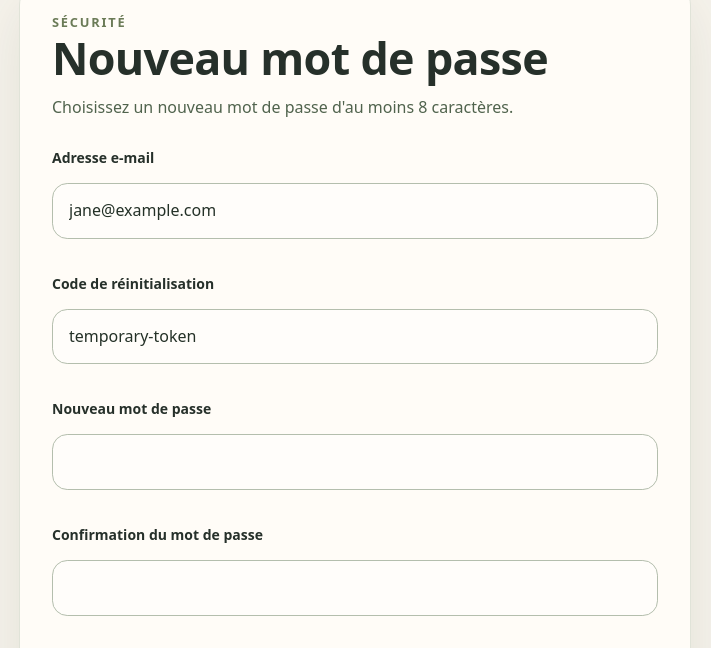
it: ResetPasswordView › renders an invalid or expired token error
Type "new-password123" into the password field labelled "Nouveau mot de passe" at (355, 462), box [52,434,658,490]
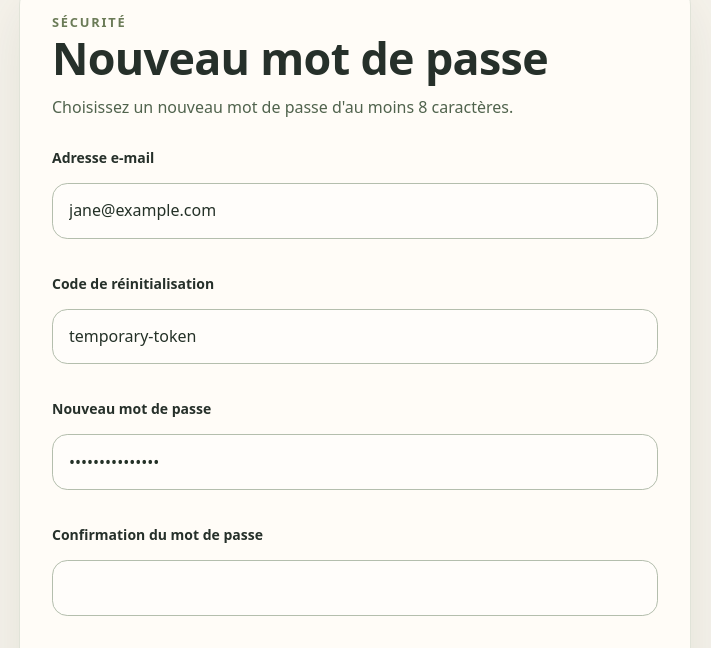
Type "new-password123" into the password field labelled "Confirmation du mot de passe" at (355, 588), box [52,560,658,616]
(page scrolled)
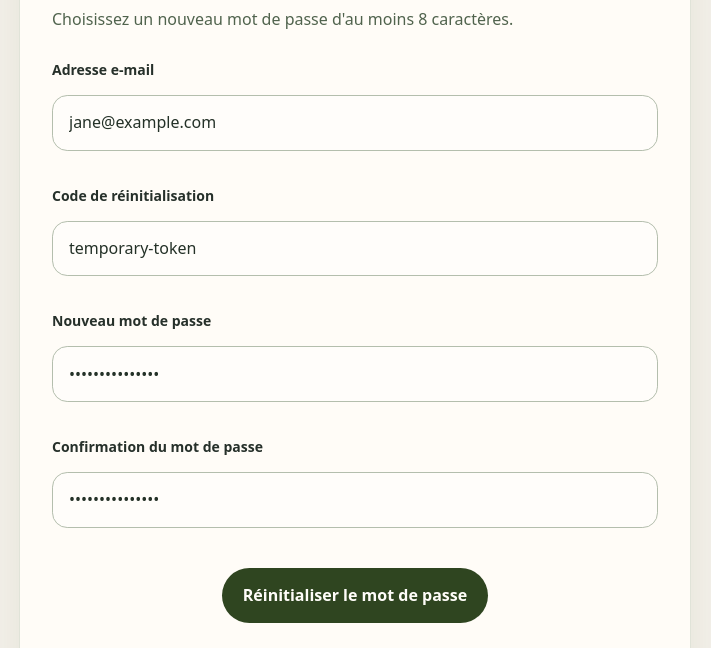
Submit the form
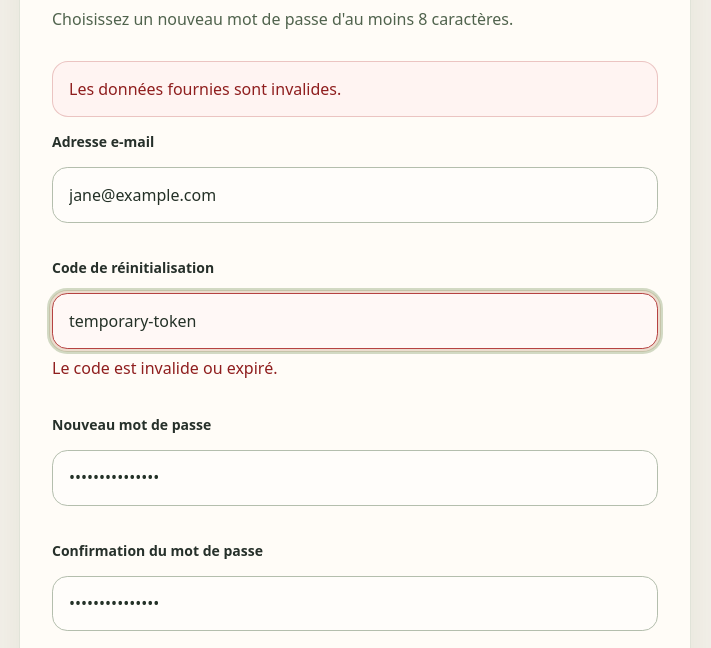
Now the message with id "token-error" shows "invalide ou expiré", box [52,357,278,379]
Now the message "Les données fournies sont invalides." is shown, box [52,61,658,117]
